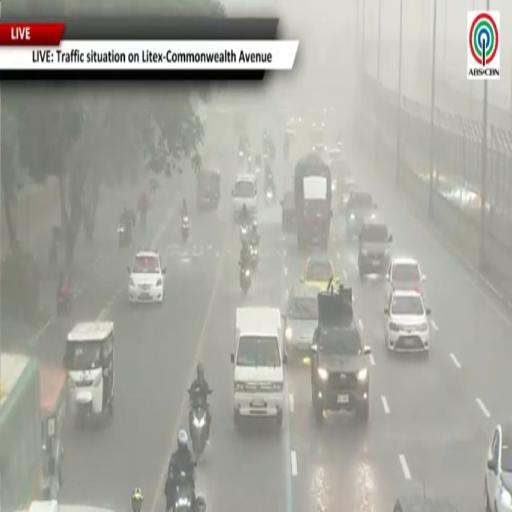car: (310, 285, 371, 424), (231, 308, 287, 427), (385, 291, 430, 356), (282, 283, 317, 358), (484, 421, 511, 511), (358, 218, 392, 281), (127, 250, 166, 303), (386, 256, 426, 297), (346, 191, 377, 239), (301, 254, 337, 291), (232, 173, 257, 219), (393, 494, 458, 511), (337, 170, 357, 211), (281, 191, 296, 232), (312, 142, 327, 156), (328, 148, 343, 161)
motorcycle: (189, 391, 208, 461), (173, 472, 194, 511), (57, 286, 73, 315), (118, 222, 131, 247), (240, 266, 251, 295), (250, 244, 258, 270), (182, 216, 189, 242), (265, 186, 274, 204), (240, 224, 248, 244), (140, 213, 146, 231), (239, 151, 245, 164)
truck: (0, 354, 42, 510), (294, 153, 332, 248)
